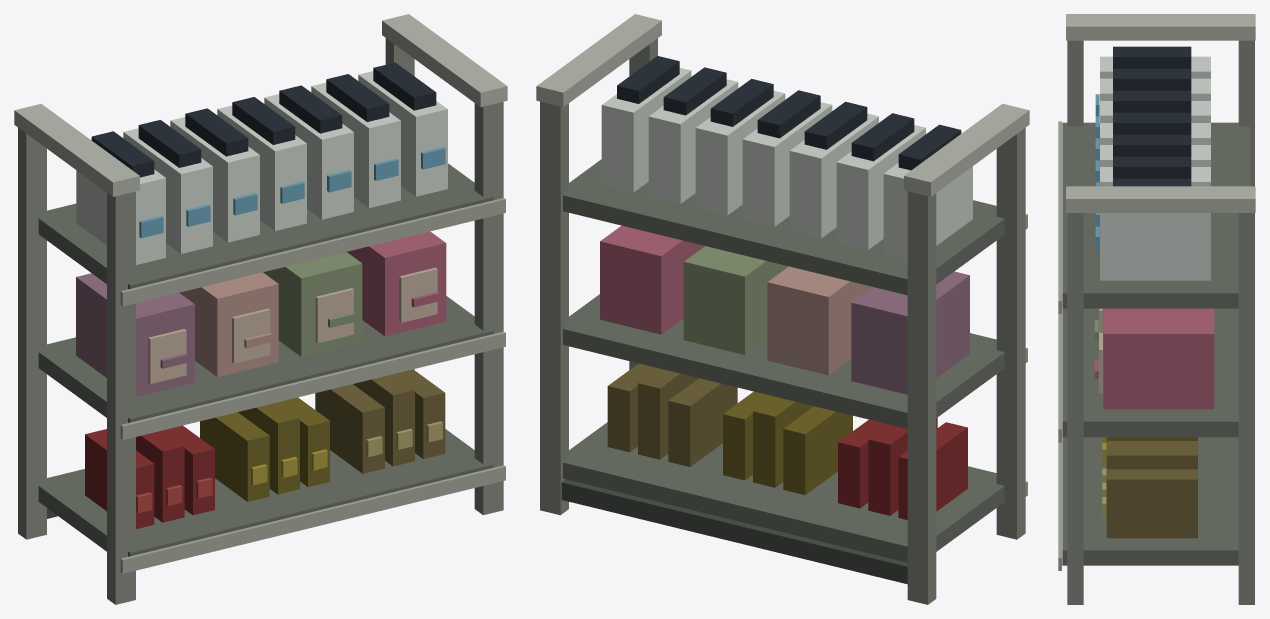
The model's file is CMU3DWeymartShelf1.glb.
The picture shows the model from 3 angles, left to right: view 1: azimuth 30°, elevation 25°; view 2: azimuth 150°, elevation 25°; view 3: azimuth 270°, elevation 25°; orthographic projection. The views are drawn at different scales.
Parts seen in each view (by area): view 1: shelf deck (×3), shelf upright (×3), top narrow package (×7), small bottom stock (×9), product carton (×4), shelf pale front lip (×3), top cap (×7), top end cap (×2), printed product label (×4); view 2: shelf deck (×3), shelf upright (×3), top narrow package (×7), product carton (×4), small bottom stock (×9), top cap (×7), top end cap (×2), rear base stretcher; view 3: shelf deck (×3), shelf upright (×4), top narrow package (×7), top cap (×7), product carton, top end cap (×2), small bottom stock (×4), shelf pale front lip (×3).
Boxes of the visible parts, x1=… form: shelf deck (×3): x1=38, y1=163, x2=493, y2=556; shelf upright (×3): x1=18, y1=101, x2=503, y2=604; top narrow package (×7): x1=76, y1=71, x2=447, y2=264; small bottom stock (×9): x1=85, y1=369, x2=445, y2=528; product carton (×4): x1=76, y1=231, x2=446, y2=396; shelf pale front lip (×3): x1=120, y1=198, x2=505, y2=573; top cap (×7): x1=91, y1=62, x2=436, y2=177; top end cap (×2): x1=14, y1=14, x2=507, y2=196; printed product label (×4): x1=148, y1=267, x2=437, y2=384; shelf deck (×3): x1=563, y1=159, x2=1004, y2=562; shelf upright (×3): x1=540, y1=101, x2=1025, y2=604; top narrow package (×7): x1=601, y1=68, x2=972, y2=259; product carton (×4): x1=600, y1=225, x2=969, y2=394; small bottom stock (×9): x1=607, y1=363, x2=967, y2=519; top cap (×7): x1=617, y1=56, x2=961, y2=170; top end cap (×2): x1=536, y1=14, x2=1029, y2=196; rear base stretcher: x1=561, y1=479, x2=907, y2=584; shelf deck (×3): x1=1062, y1=122, x2=1250, y2=565; shelf upright (×4): x1=1067, y1=40, x2=1254, y2=604; top narrow package (×7): x1=1100, y1=56, x2=1210, y2=280; top cap (×7): x1=1113, y1=46, x2=1191, y2=186; product carton: x1=1103, y1=308, x2=1214, y2=409; top end cap (×2): x1=1066, y1=14, x2=1255, y2=212; small bottom stock (×4): x1=1106, y1=437, x2=1197, y2=538; shelf pale front lip (×3): x1=1058, y1=121, x2=1061, y2=570.
Size of the model in its own units: 0.966 by 0.9914 by 0.4356.
